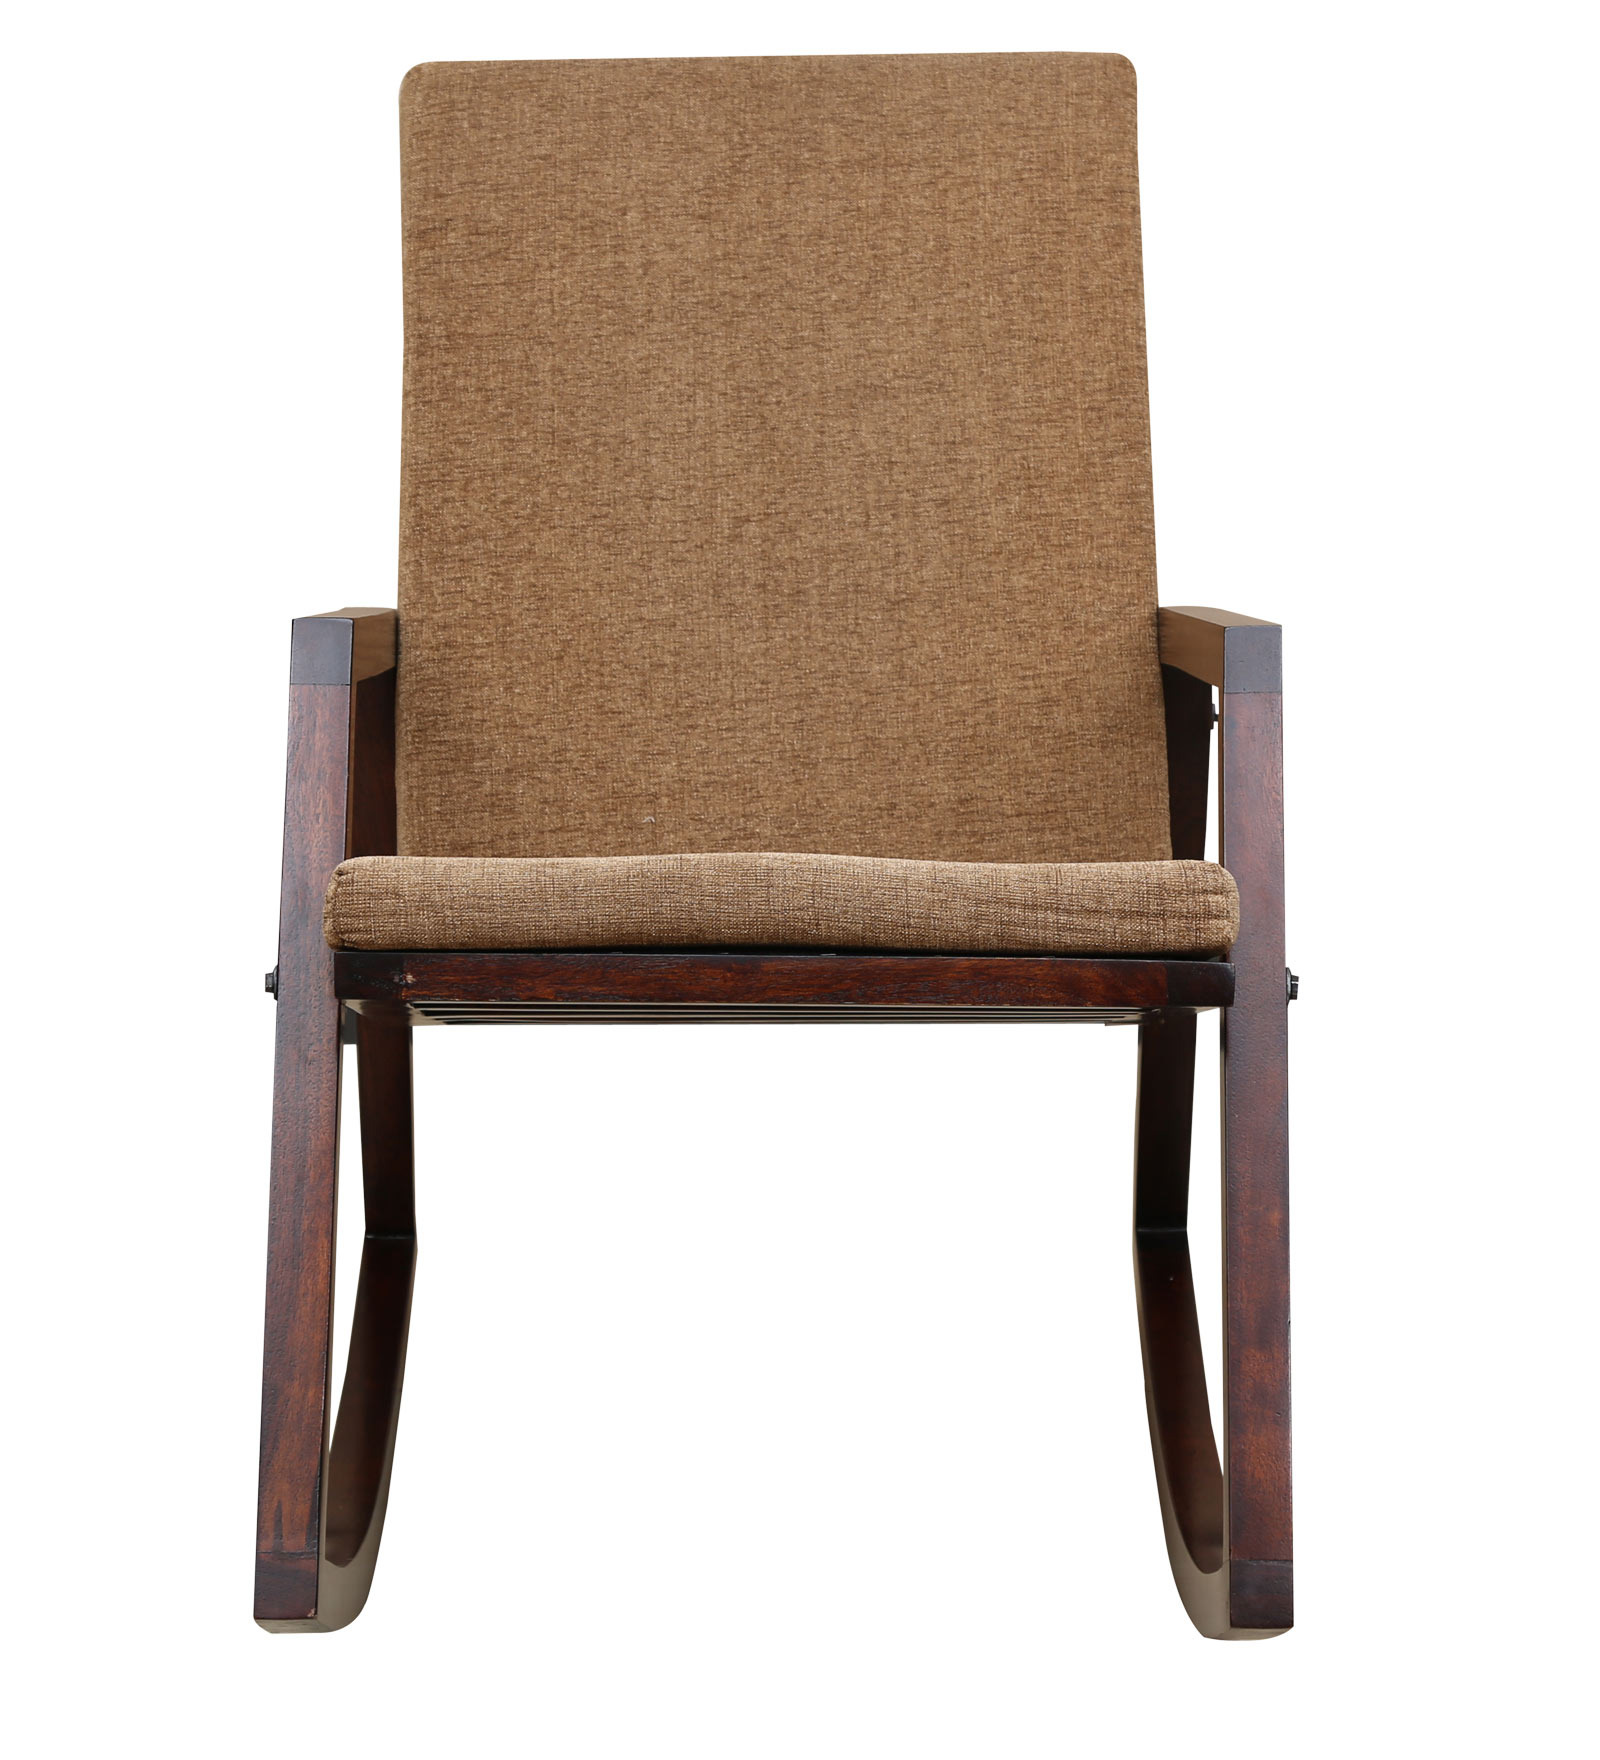Ace Rocking Chair in Brown Colour by HomeTown: (208, 34, 1313, 1680)
